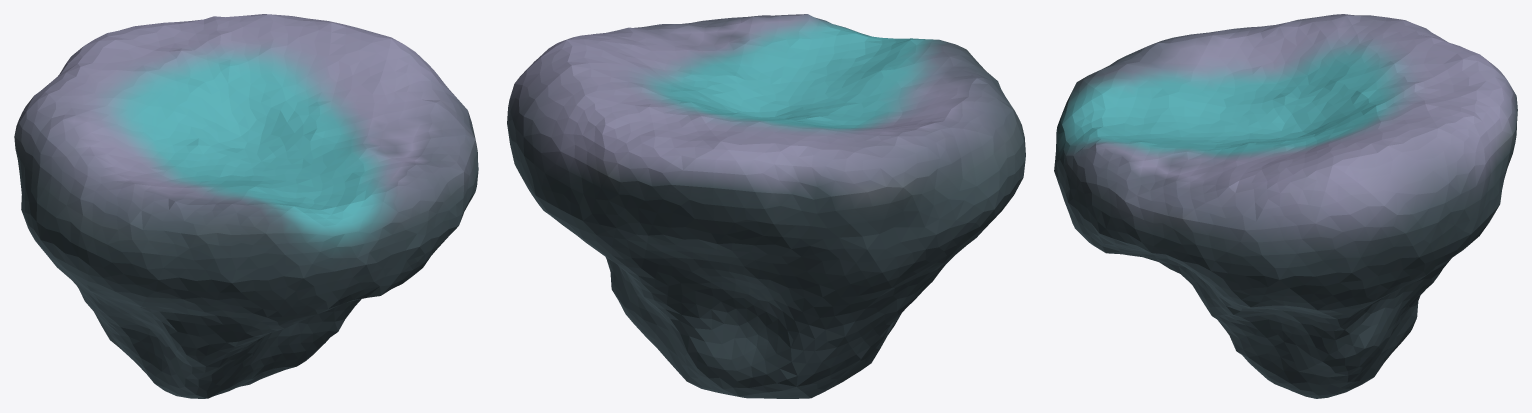
File: Island1.fbx
The picture shows the model from 3 angles, left to right: view 1: azimuth 30°, elevation 25°; view 2: azimuth 150°, elevation 25°; view 3: azimuth 270°, elevation 25°; orthographic projection. The views are drawn at different scales.
Parts seen in each view (by area): view 1: Icosphere; view 2: Icosphere; view 3: Icosphere.
Boxes of the visible parts, x1,y1,x2,y2 form: Icosphere: [14, 14, 478, 398]; Icosphere: [507, 14, 1025, 398]; Icosphere: [1054, 14, 1517, 398].
Size of the model in its own units: 2051 by 1387 by 1938.
